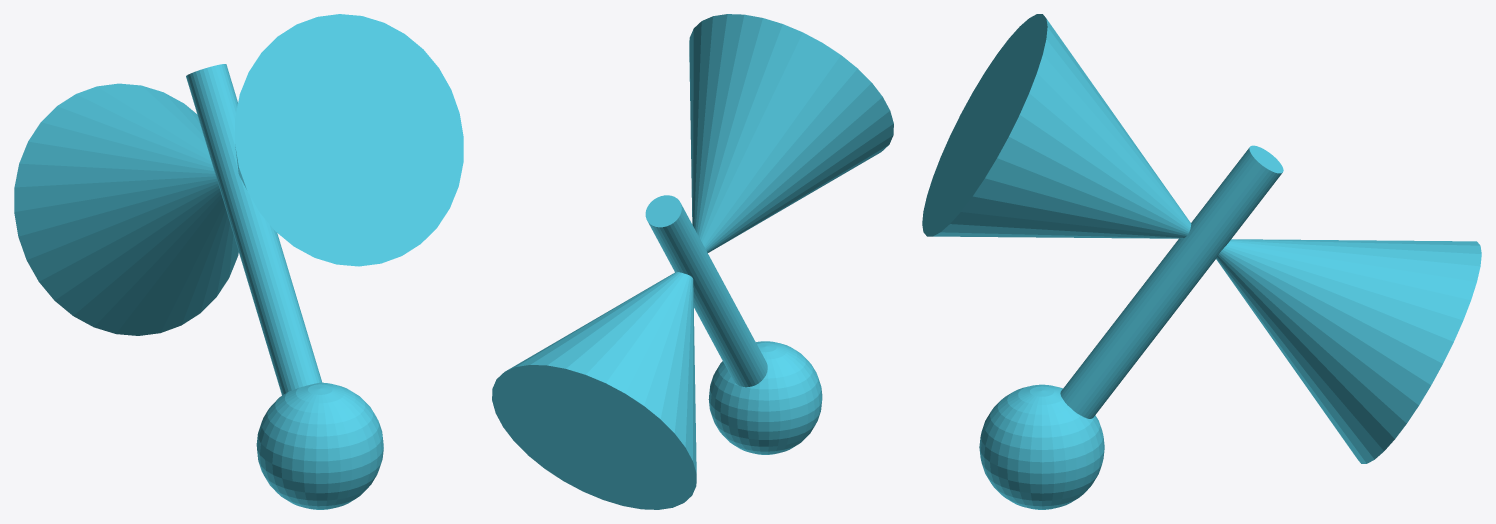
Rendered from repairpartMedium.obj.
3 renders of one model, left to right at view 1: azimuth 30°, elevation 25°; view 2: azimuth 150°, elevation 25°; view 3: azimuth 270°, elevation 25°, orthographic. The views are drawn at different scales.
Parts seen in each view (by area): view 1: 円柱.001; view 2: 円柱.001; view 3: 円柱.001.
Boxes of the visible parts, x1=… form: 円柱.001: x1=14, y1=14, x2=463, y2=509; 円柱.001: x1=492, y1=14, x2=893, y2=509; 円柱.001: x1=922, y1=14, x2=1481, y2=509.
Bounding box in the file's own units: 1.2 × 2.52 × 2.68.
